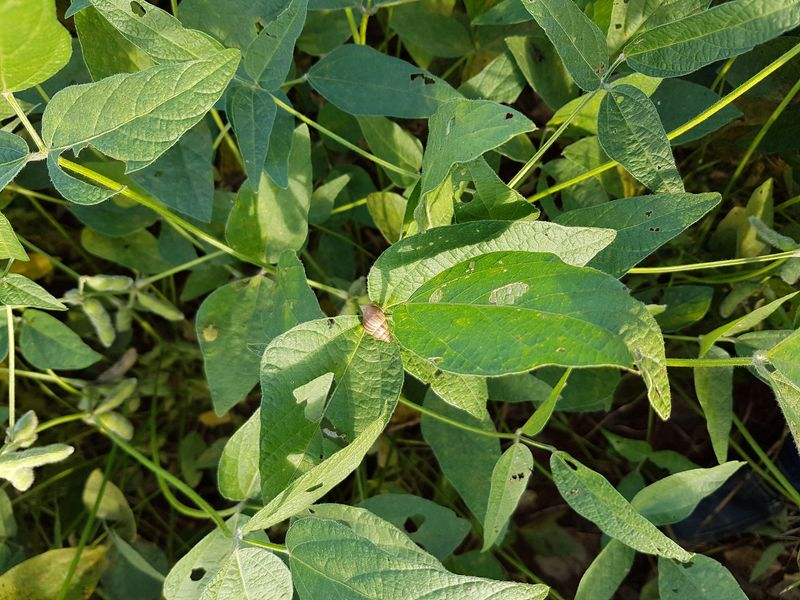Gastropoda: (352, 298, 398, 348)
